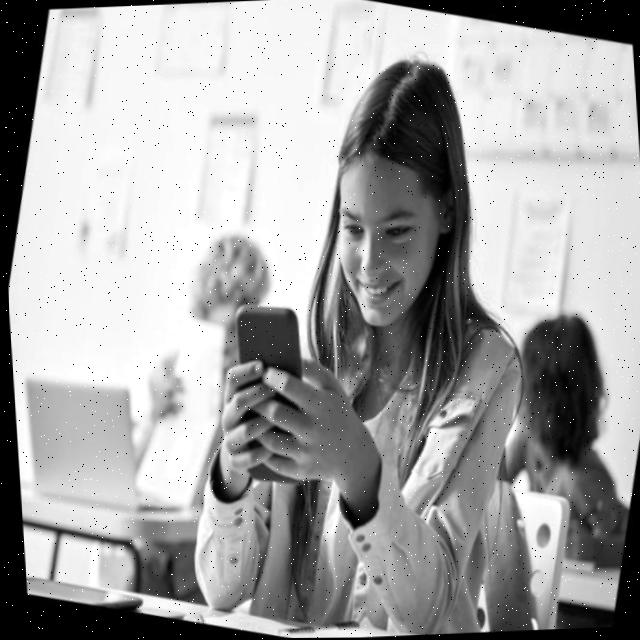phone: (198, 293, 339, 491)
